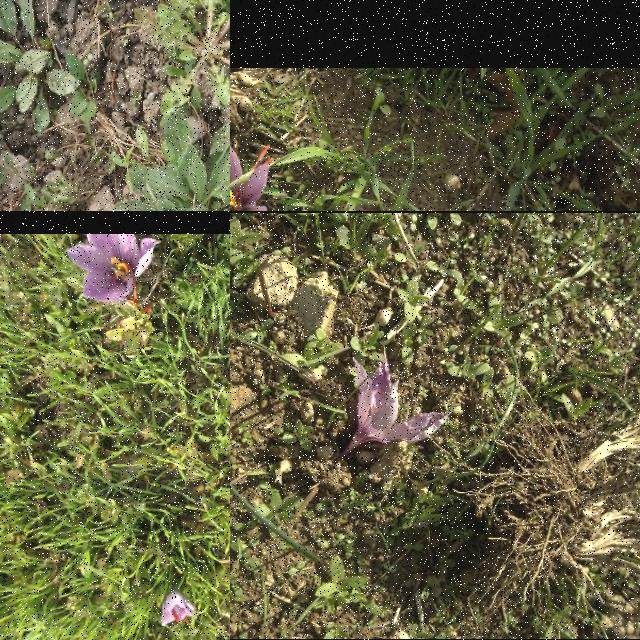flower: (354, 360, 448, 444), (66, 234, 160, 304), (230, 130, 276, 211), (160, 592, 197, 626)
